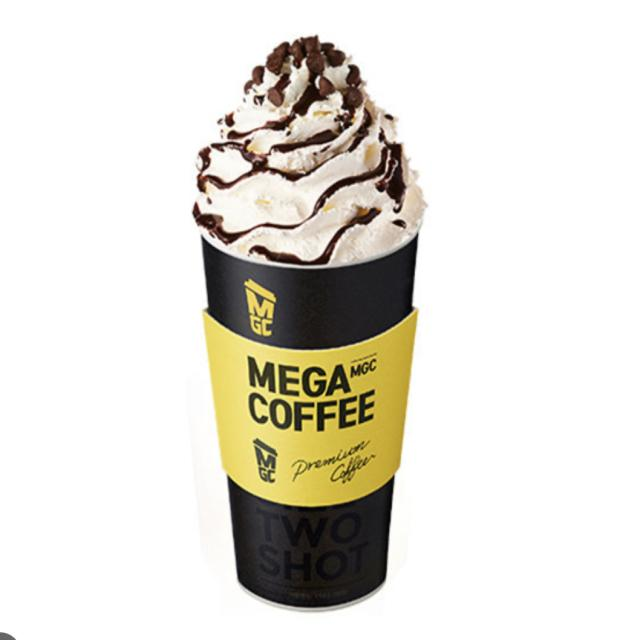non-biodegradable: (175, 223, 442, 620)
